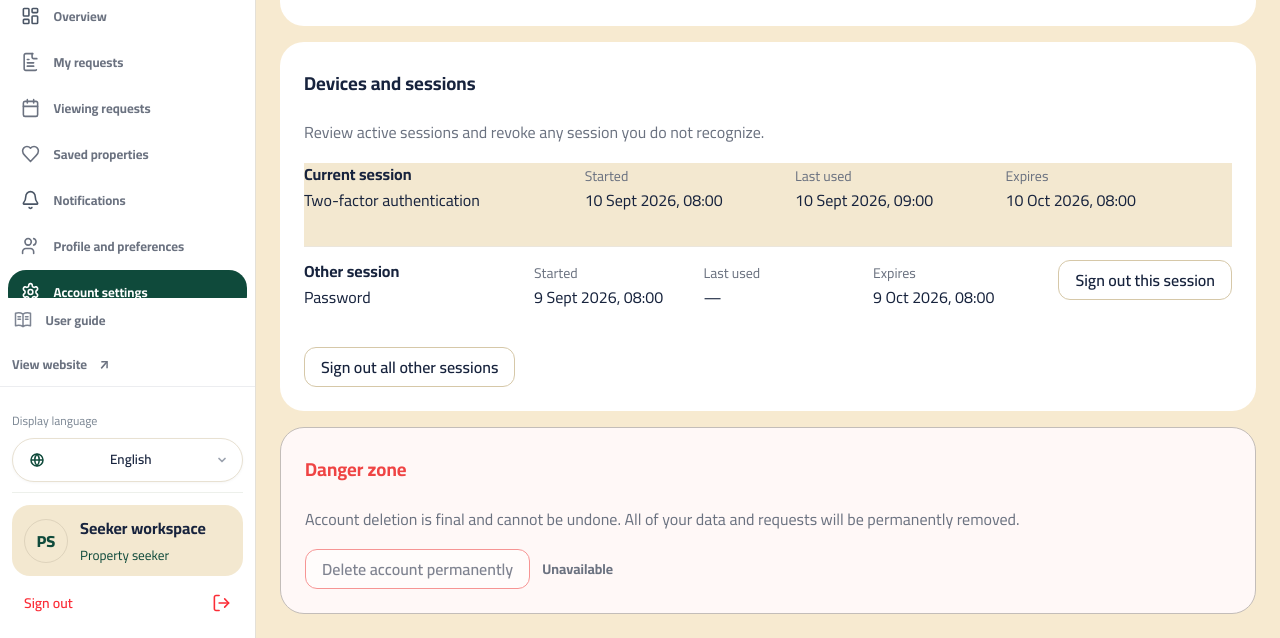
it: Seeker profile, preferences, and settings › loads active sessions and revokes another owned session without refreshing the page
(page scrolled)
Expected: the text "Current session" is shown, top-left (304, 159), bottom-right (412, 189)
Expected: the text "Other session" is shown, top-left (304, 256), bottom-right (399, 286)
Click the button "Sign out this session".
click(1145, 280)  # box top-left (1058, 260), bottom-right (1232, 300)
(page scrolled)
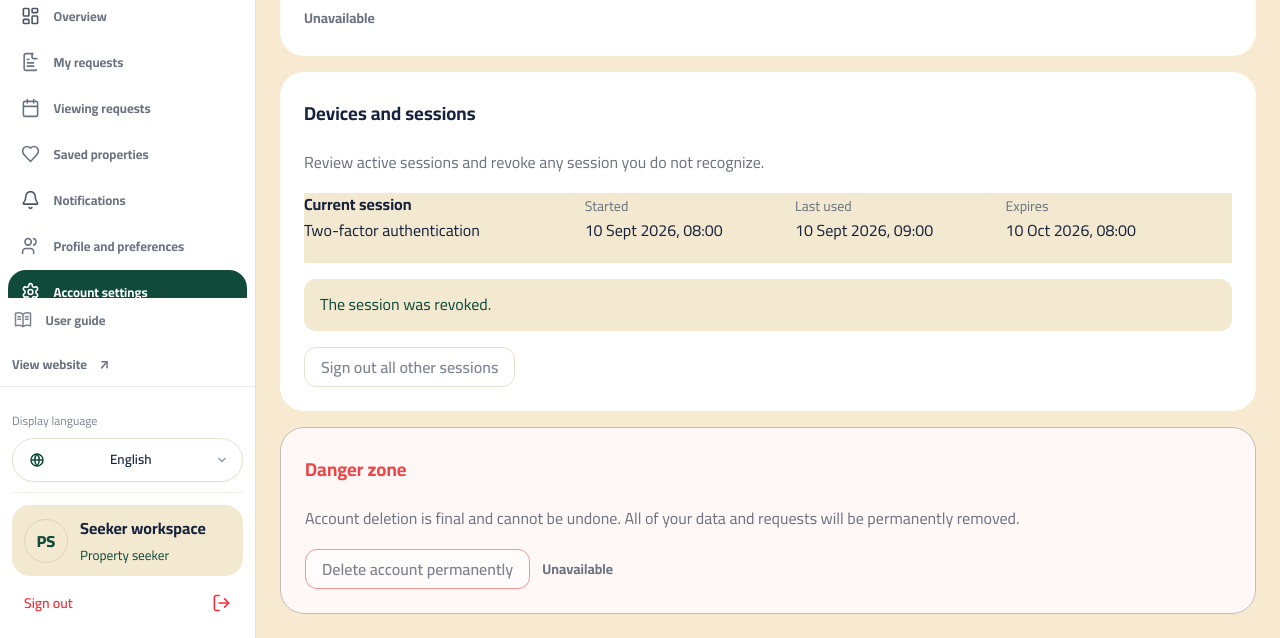
Result: the text "The session was revoked." is shown at top-left (304, 279), bottom-right (1232, 331)
